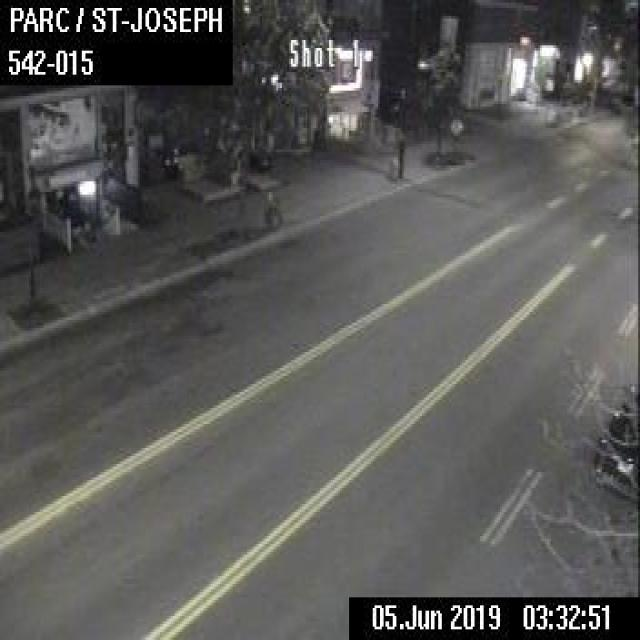vehicle: (591, 379, 638, 496)
